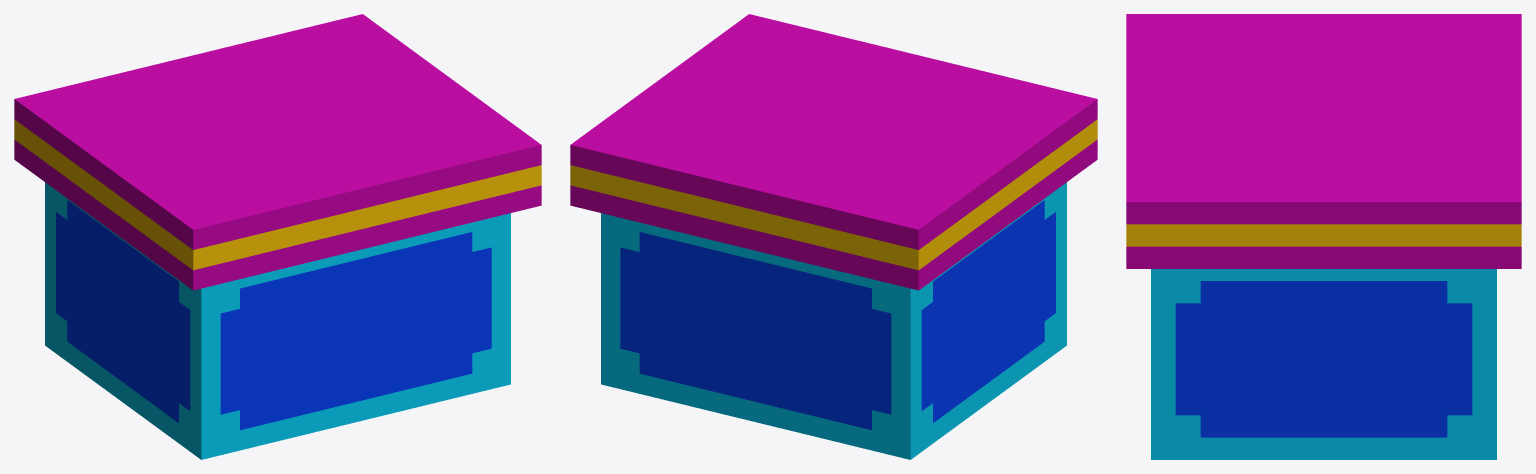
File: wall_1x1_3.obj
3 renders of one model, left to right at view 1: azimuth 30°, elevation 25°; view 2: azimuth 150°, elevation 25°; view 3: azimuth 270°, elevation 25°, orthographic. The views are drawn at different scales.
Size of the model in its own units: 1.8 by 1.2 by 1.6.
Materials: 1 (1 with a texture image).
